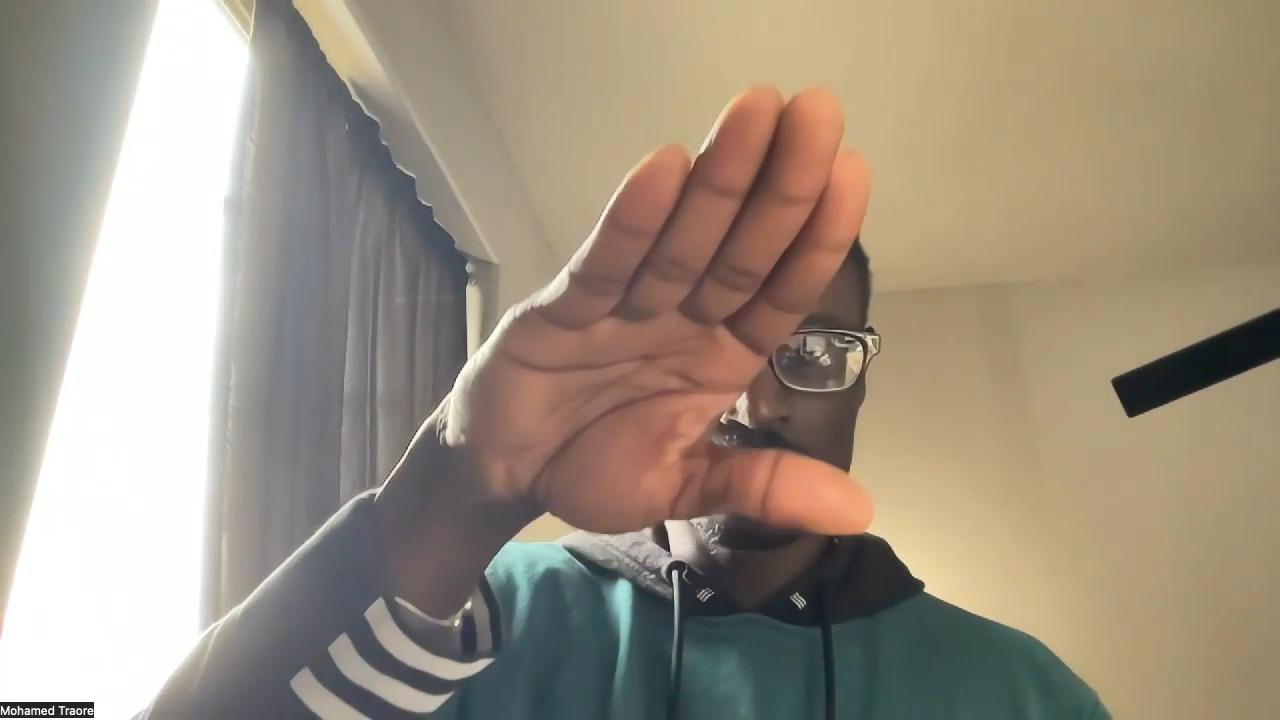Paper: (442, 80, 880, 543)
